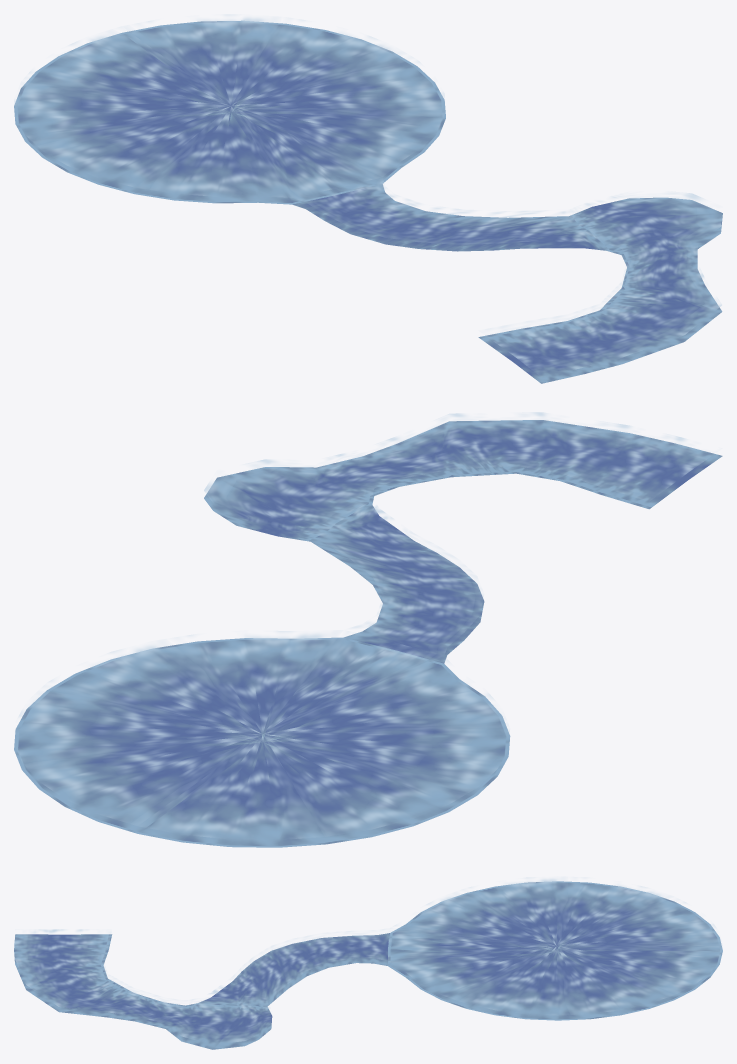
Rendered from Water_Boss.gltf.
3 views of the same model, one above another, from view 1: azimuth 30°, elevation 25°; view 2: azimuth 150°, elevation 25°; view 3: azimuth 270°, elevation 25° (orthographic). The views are drawn at different scales.
Parts seen in each view (by area): view 1: EN_Arena_Floor_Plane2-water, EN_Arena_Floor_Plane2-foam; view 2: EN_Arena_Floor_Plane2-water, EN_Arena_Floor_Plane2-foam; view 3: EN_Arena_Floor_Plane2-water, EN_Arena_Floor_Plane2-foam.
Part boxes in pixels (<box>): EN_Arena_Floor_Plane2-water: <box>14,20,722,383</box>; EN_Arena_Floor_Plane2-foam: <box>14,14,721,369</box>; EN_Arena_Floor_Plane2-water: <box>14,420,722,847</box>; EN_Arena_Floor_Plane2-foam: <box>18,412,706,838</box>; EN_Arena_Floor_Plane2-water: <box>14,881,722,1049</box>; EN_Arena_Floor_Plane2-foam: <box>14,877,722,1041</box>.
Size of the model in its own units: 57.32 by 0.9634 by 102.
Materials: 2 (2 with a texture image).
